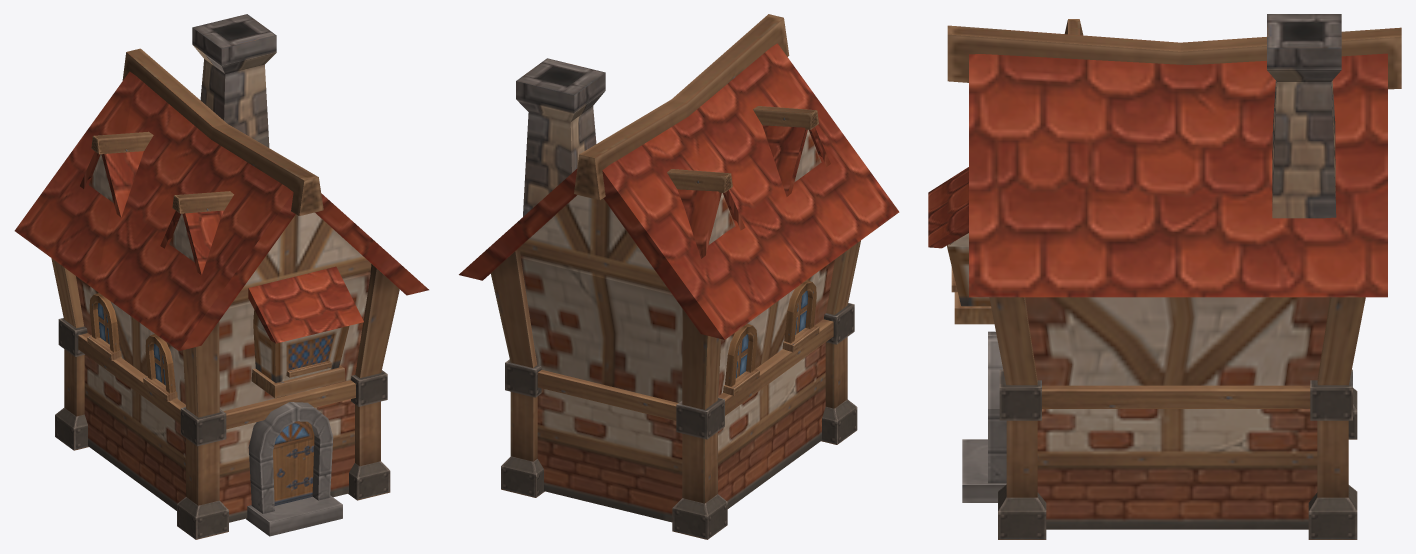
The model's file is paran_house_1.FBX.
The picture shows the model from 3 angles, left to right: view 1: azimuth 30°, elevation 25°; view 2: azimuth 150°, elevation 25°; view 3: azimuth 270°, elevation 25°; orthographic projection. The views are drawn at different scales.
Parts seen in each view (by area): view 1: Object092; view 2: Object092; view 3: Object092.
Part boxes in pixels (x1,y1,x2,y2): Object092: [14, 14, 428, 539]; Object092: [459, 14, 899, 539]; Object092: [928, 14, 1401, 539].
Size of the model in its own units: 111 by 142 by 162.
